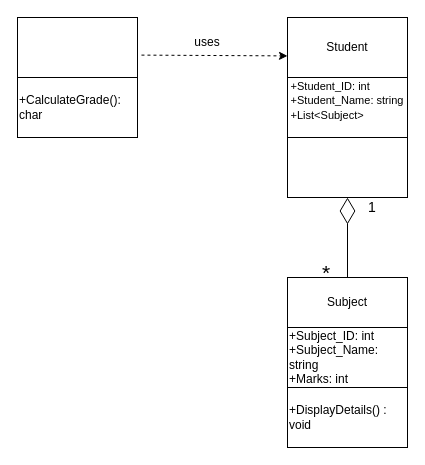
This 425x465 diagram has some shape labels left out. The shapes that lost their labels are listed below. From the top down, each one's centre as x and y in pixels, then its label:
[77,47]: Grade Calculator
[347,167]: + AddSubject() : void +DisplayDetails() : void
